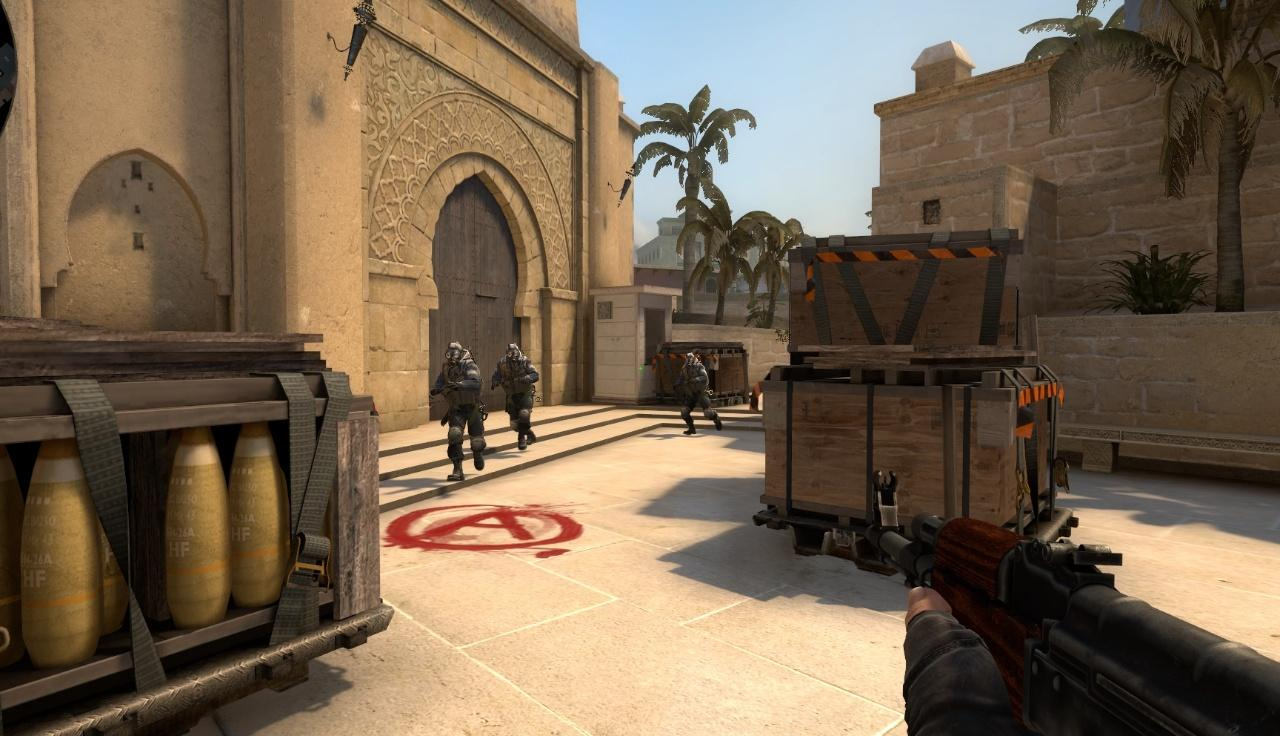ct: (431, 342, 486, 482), (492, 343, 539, 450), (677, 352, 723, 435)
cthead: (445, 342, 463, 365), (506, 343, 520, 364), (685, 353, 695, 366)
rifle: (867, 468, 1280, 736)
